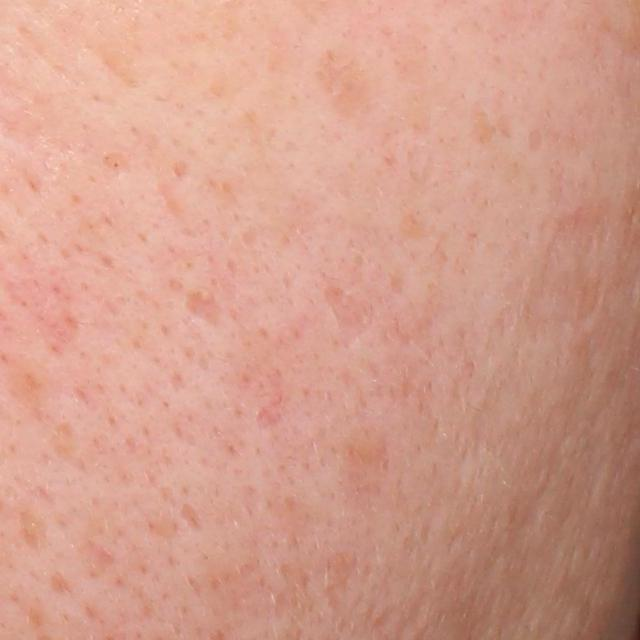atrophic_scar: (324, 283, 382, 352), (180, 287, 226, 336), (20, 502, 57, 553), (178, 497, 205, 526)
